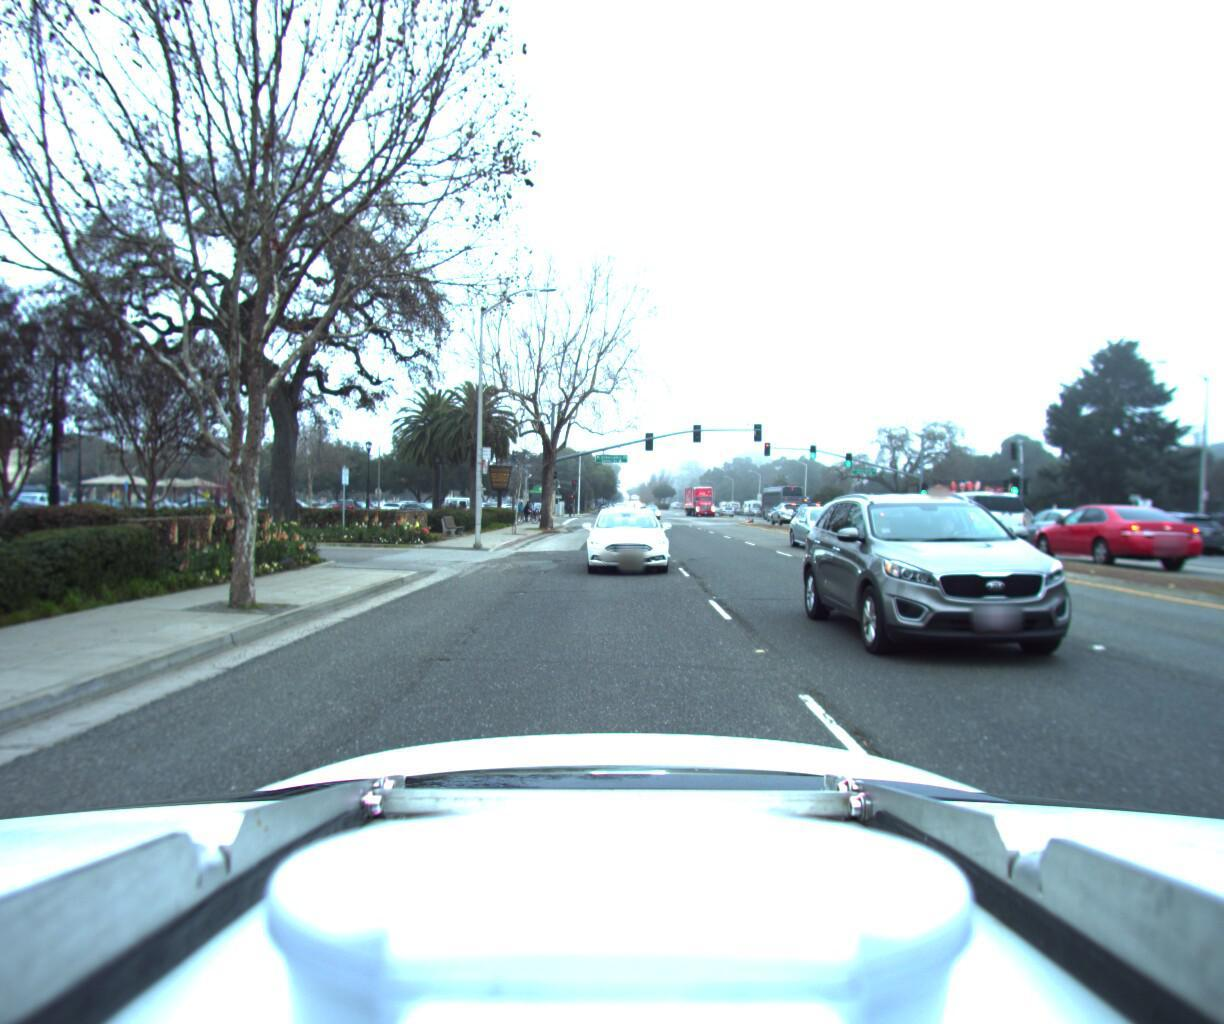bicycle: (514, 492, 540, 516)
car: (804, 471, 1195, 705), (1017, 494, 1220, 564), (910, 480, 1030, 542), (576, 499, 671, 575), (992, 497, 1129, 547), (1105, 502, 1221, 548), (792, 498, 888, 551), (847, 488, 927, 536), (1138, 510, 1224, 554), (768, 492, 808, 520), (0, 493, 1, 610)
other_vehicle: (440, 488, 491, 513)
